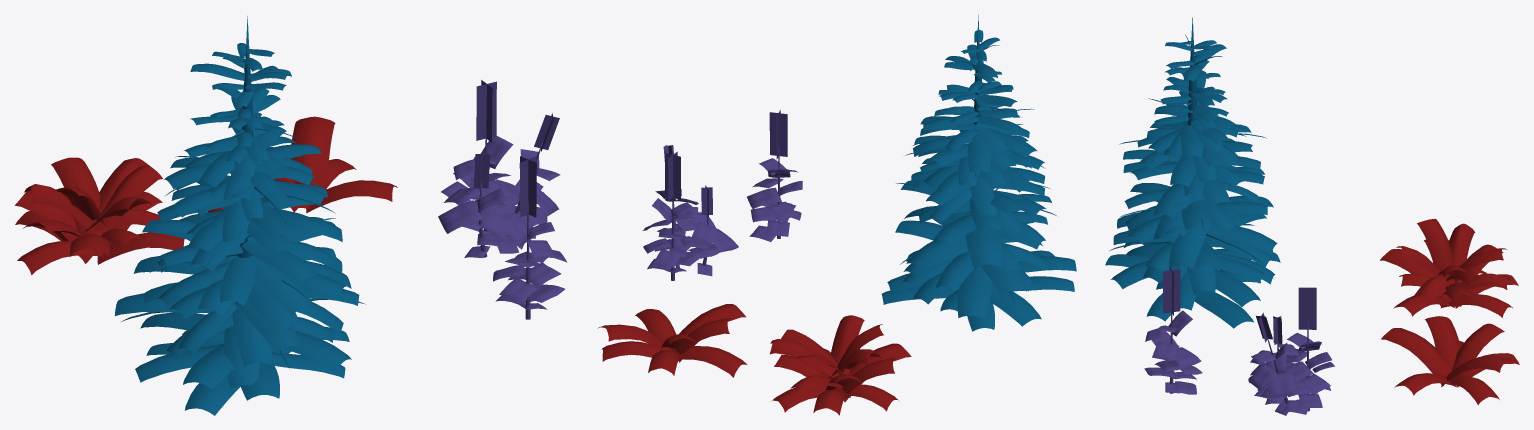
Rendered from SequoiaTreesandferns.fbx.
3 renders of one model, left to right at view 1: azimuth 30°, elevation 25°; view 2: azimuth 150°, elevation 25°; view 3: azimuth 270°, elevation 25°, orthographic. The views are drawn at different scales.
Parts seen in each view (by area): view 1: Plane168, Plane025, Cylinder007; view 2: Plane168, Plane025, Cylinder007; view 3: Plane168, Plane025, Cylinder007.
Part boxes in pixels (x1=…): Plane168: x1=114, y1=16, x2=365, y2=415; Plane025: x1=15, y1=116, x2=397, y2=275; Cylinder007: x1=438, y1=80, x2=567, y2=319; Plane168: x1=881, y1=14, x2=1076, y2=331; Plane025: x1=597, y1=304, x2=911, y2=415; Cylinder007: x1=642, y1=110, x2=802, y2=280; Plane168: x1=1105, y1=17, x2=1280, y2=328; Plane025: x1=1380, y1=219, x2=1519, y2=404; Cylinder007: x1=1144, y1=267, x2=1334, y2=415.
Bounding box in the file's own units: 102 × 78.26 × 103.
